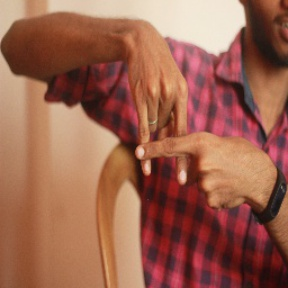H: (104, 75, 211, 198)
